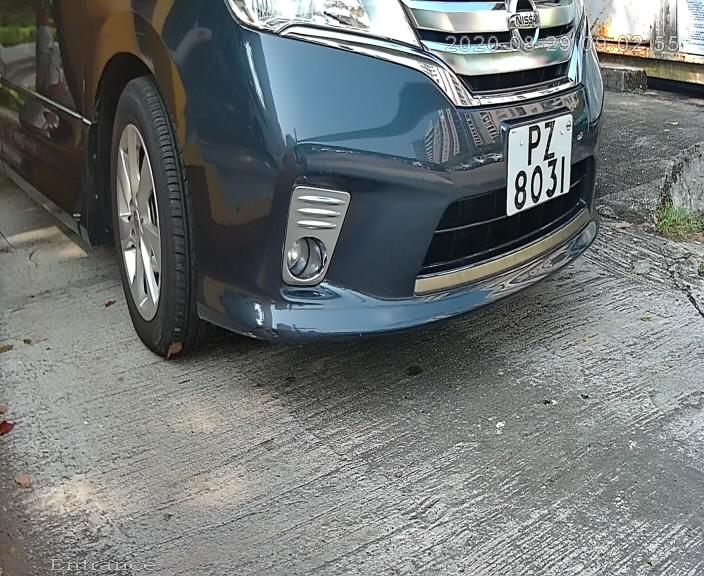License Plate: (486, 94, 587, 242)
